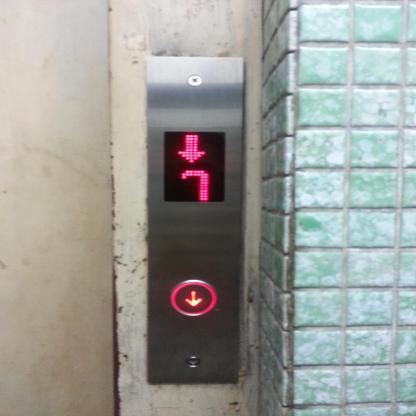down: (168, 279, 218, 317)
led: (162, 129, 226, 205)
